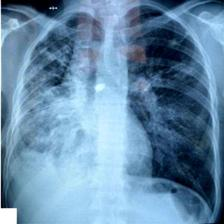tuberculosis: (7, 5, 219, 224)
